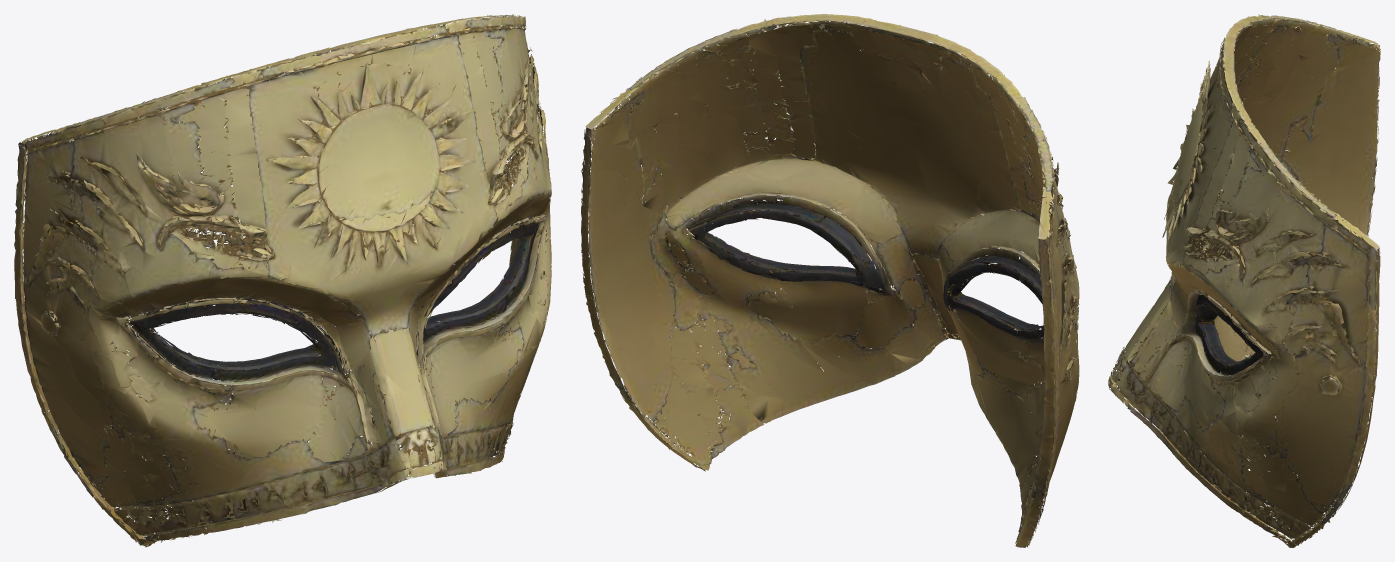
File: azoth-mask.glb
3 views of the same model, side by side, from view 1: azimuth 30°, elevation 25°; view 2: azimuth 150°, elevation 25°; view 3: azimuth 270°, elevation 25° (orthographic). The views are drawn at different scales.
Parts seen in each view (by area): view 1: Mesh_0; view 2: Mesh_0; view 3: Mesh_0.
Boxes of the visible parts, x1,y1,x2,y2 form: Mesh_0: [14, 14, 551, 547]; Mesh_0: [581, 14, 1079, 547]; Mesh_0: [1108, 14, 1380, 547].
Bounding box in the file's own units: 1 × 0.9193 × 0.5433.
1 material, 1 textured.
